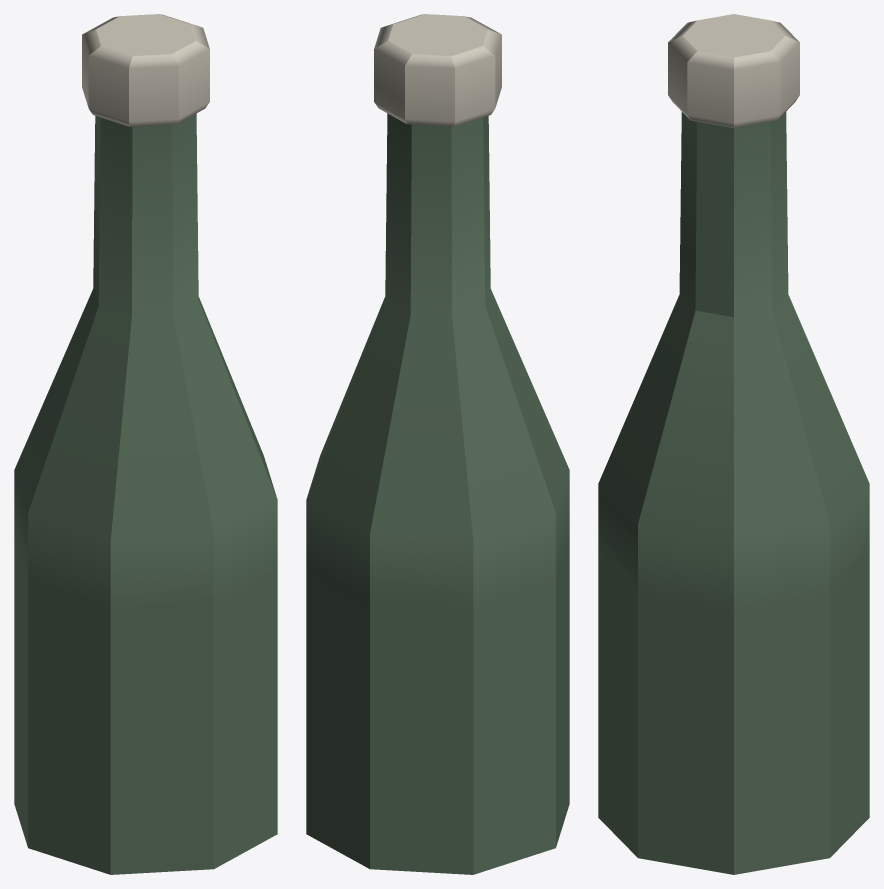
Rendered from Bottle.fbx.
The picture shows the model from 3 angles, left to right: view 1: azimuth 30°, elevation 25°; view 2: azimuth 150°, elevation 25°; view 3: azimuth 270°, elevation 25°; orthographic projection.
Visible parts, largest first — view 1: Bottle, Cork1; view 2: Bottle, Cork1; view 3: Bottle, Cork1.
Boxes of the visible parts, box(x1,y1,x2,y2) form: Bottle: box(14, 113, 277, 874); Cork1: box(82, 14, 209, 126); Bottle: box(306, 113, 569, 874); Cork1: box(374, 14, 501, 126); Bottle: box(598, 112, 869, 874); Cork1: box(668, 14, 799, 127).
Size of the model in its own units: 6.72 by 21.35 by 6.72.
